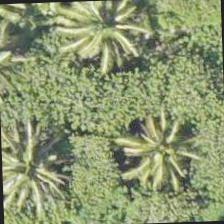Kelapa_Sawit: (12, 120, 106, 214), (112, 102, 205, 195), (56, 0, 149, 72)
